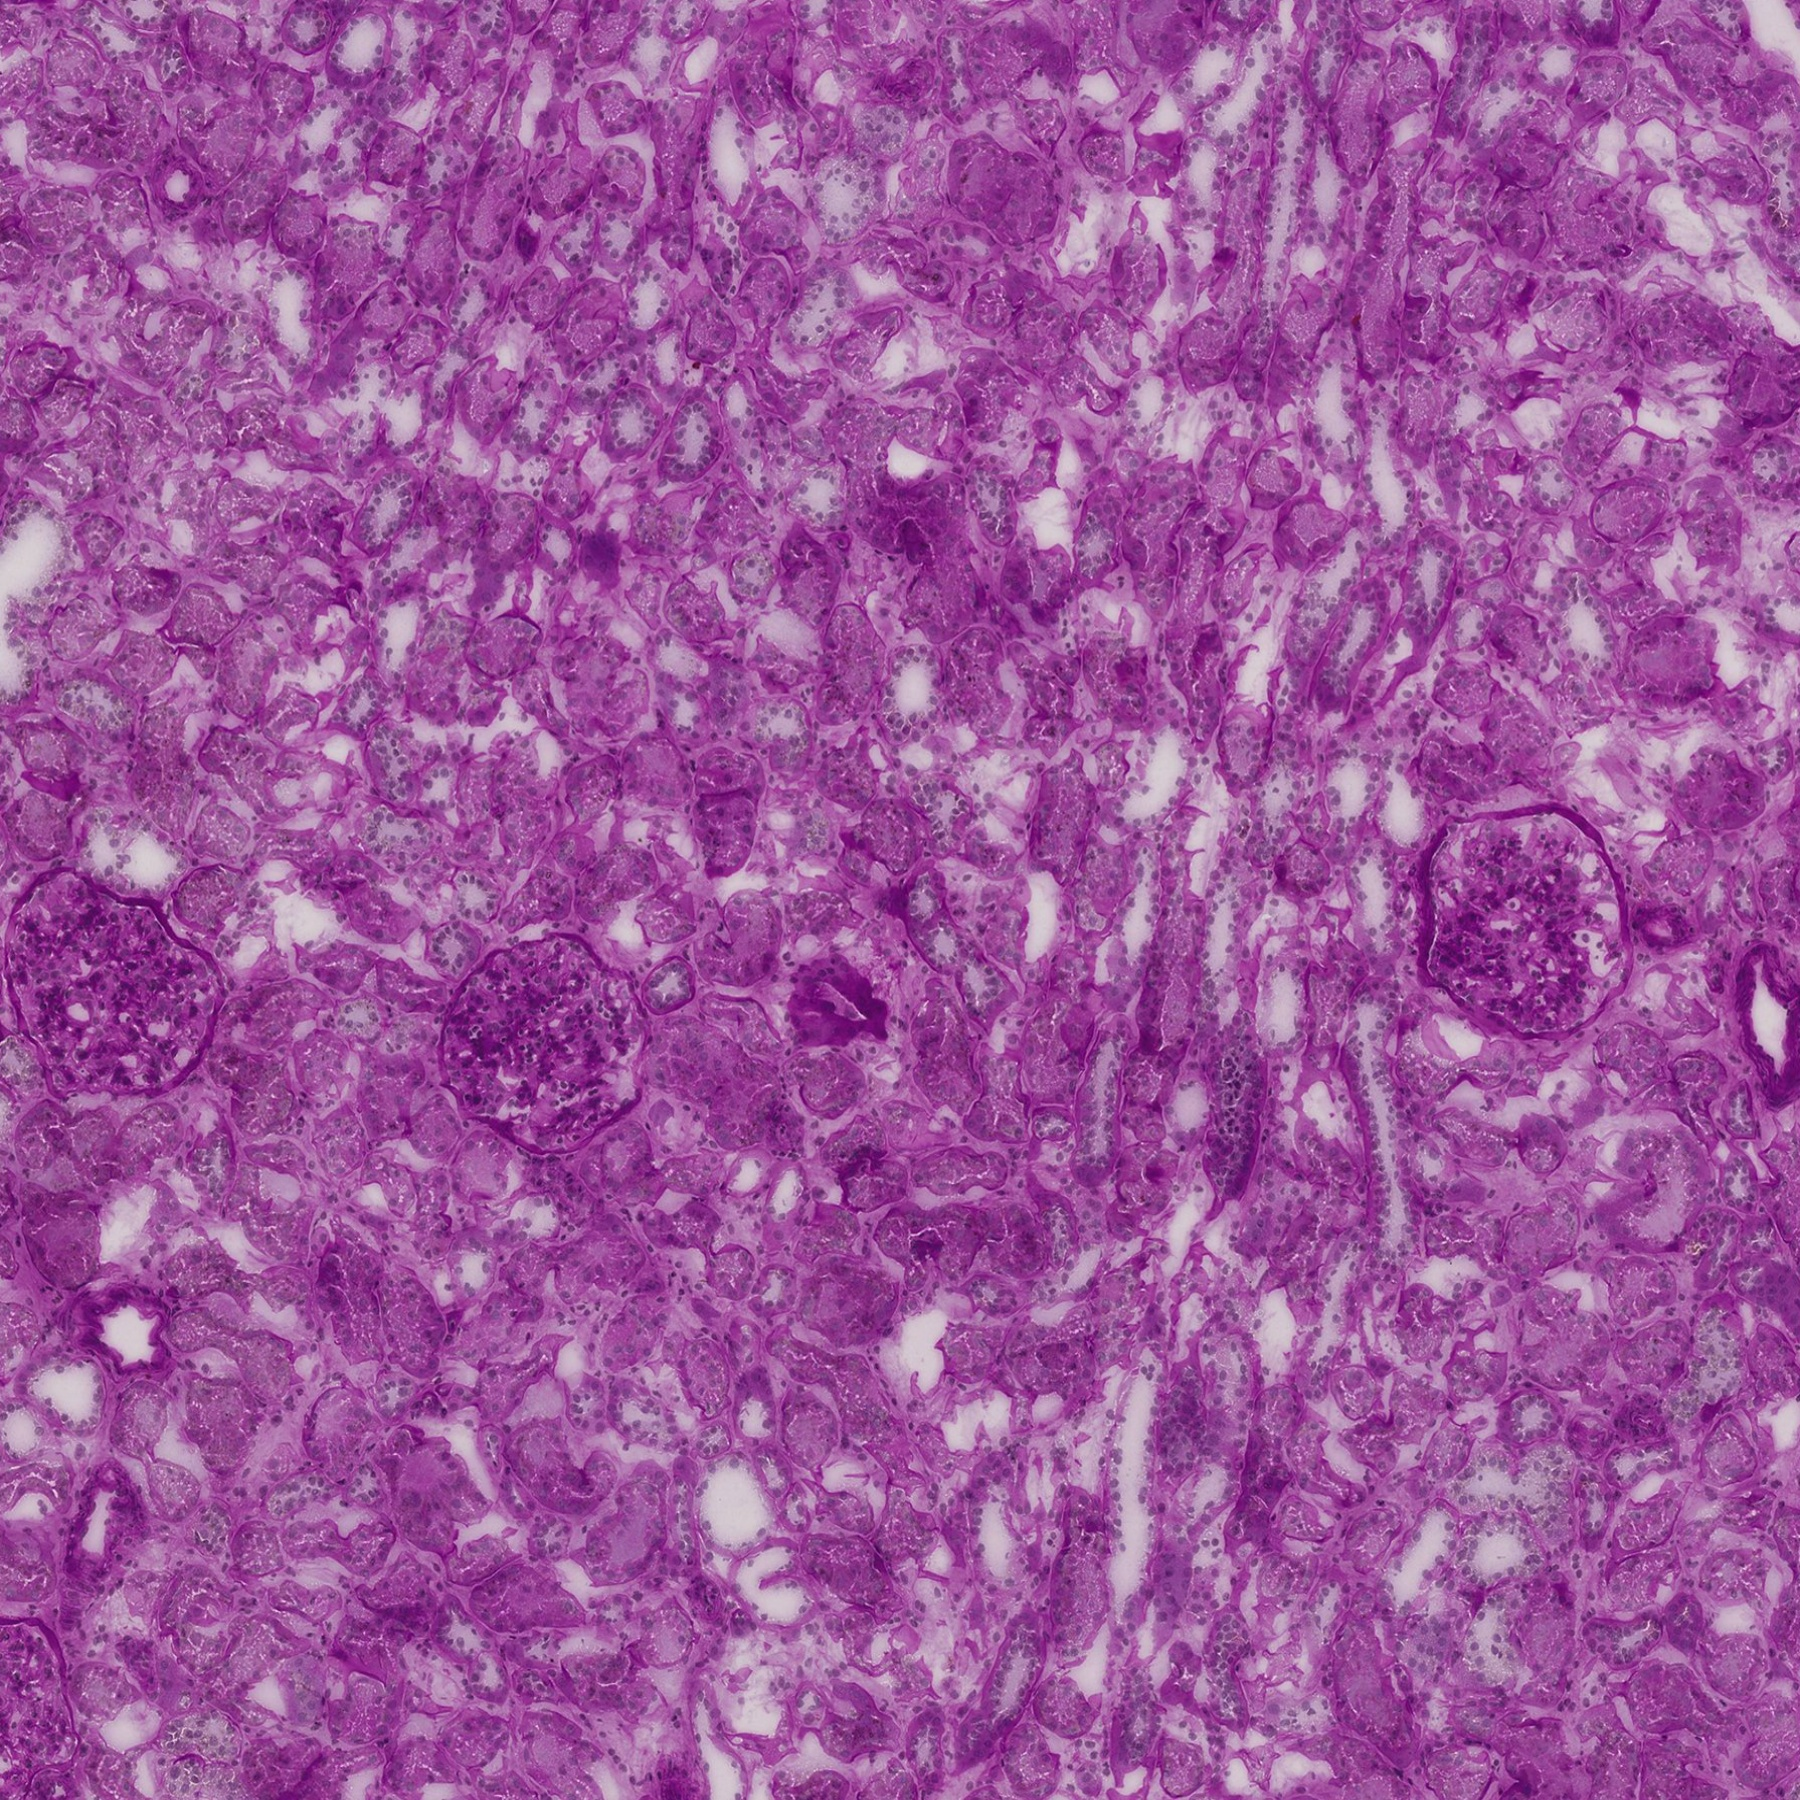Glomeruli: (3, 860, 231, 1111), (1416, 798, 1635, 1042), (429, 928, 654, 1159), (2, 1617, 77, 1769)
